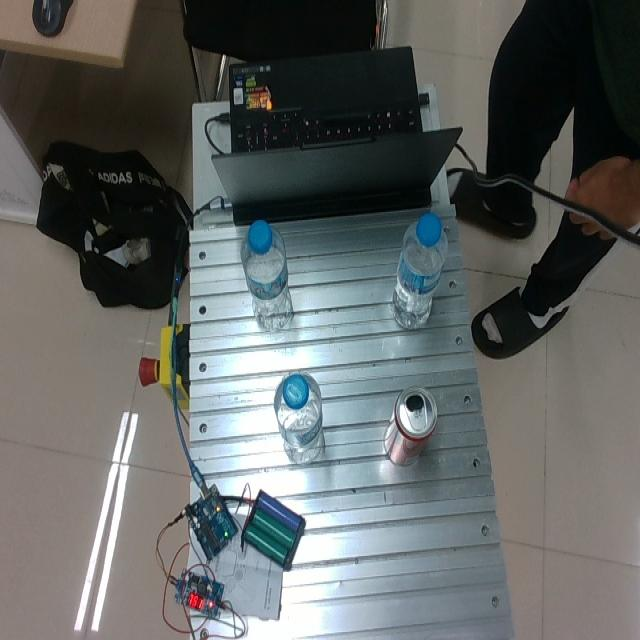coca: (384, 384, 438, 467)
lavie: (391, 213, 446, 329), (240, 219, 293, 333), (274, 370, 323, 462)
